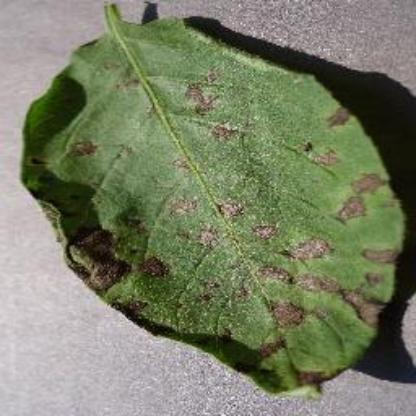Early-Blight: (20, 1, 410, 395)
